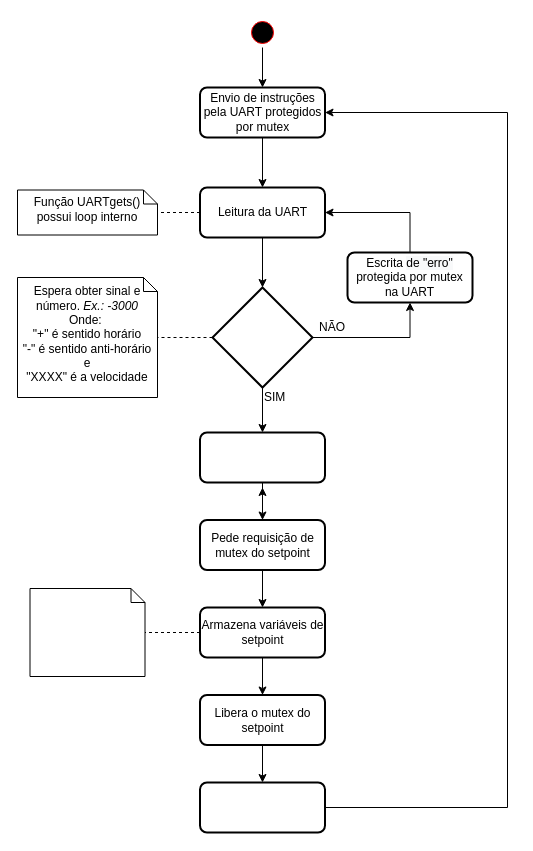
The diagram is 533 pixels wide and 851 high, and some of its shapes have lost their labels. Each missing label, with the centre of its shape:
Atualiza flag de alteração de setpoint: the point at 262,807
Escrita de "aviso de sucesso" protegida por mutex na UART: the point at 262,457
Struct global compartilhada com thread de controle: the point at 87,632
Valor válido?: the point at 262,337
